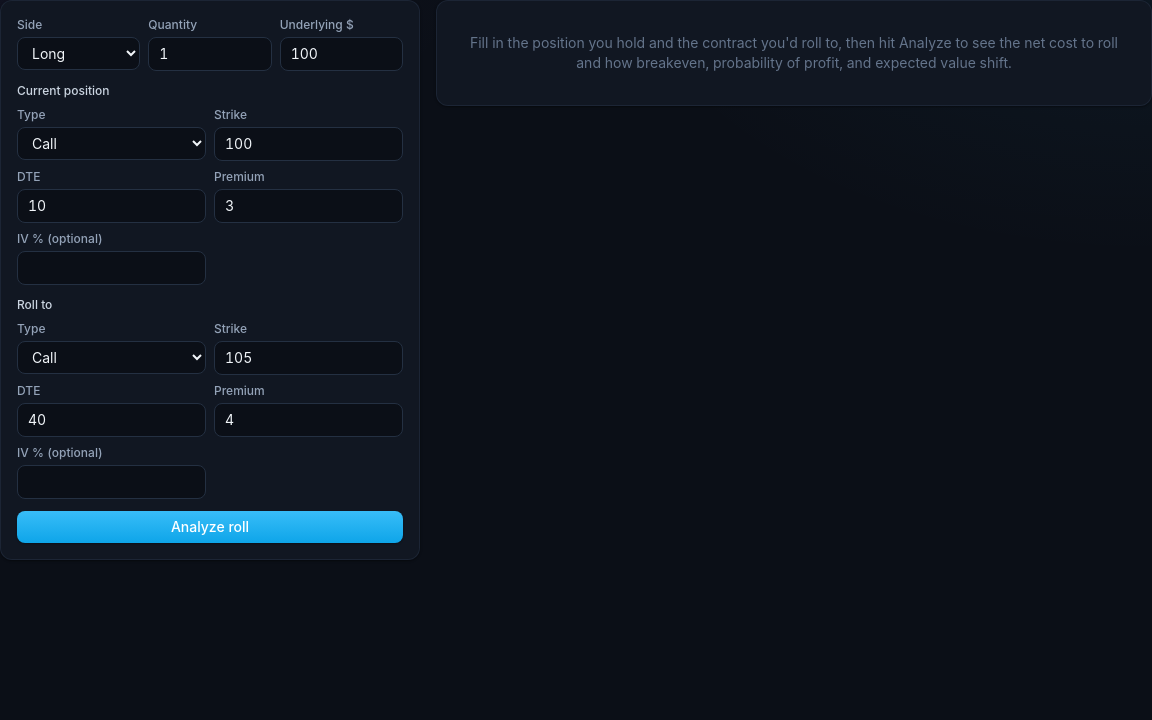
Scenario: RollAnalyzer › renders null probability/expected-value fields as em-dashes, not crashes
This screenshot has width=1152, height=720.
Click the button "Analyze roll" at [210, 527], box [17,511,403,543]
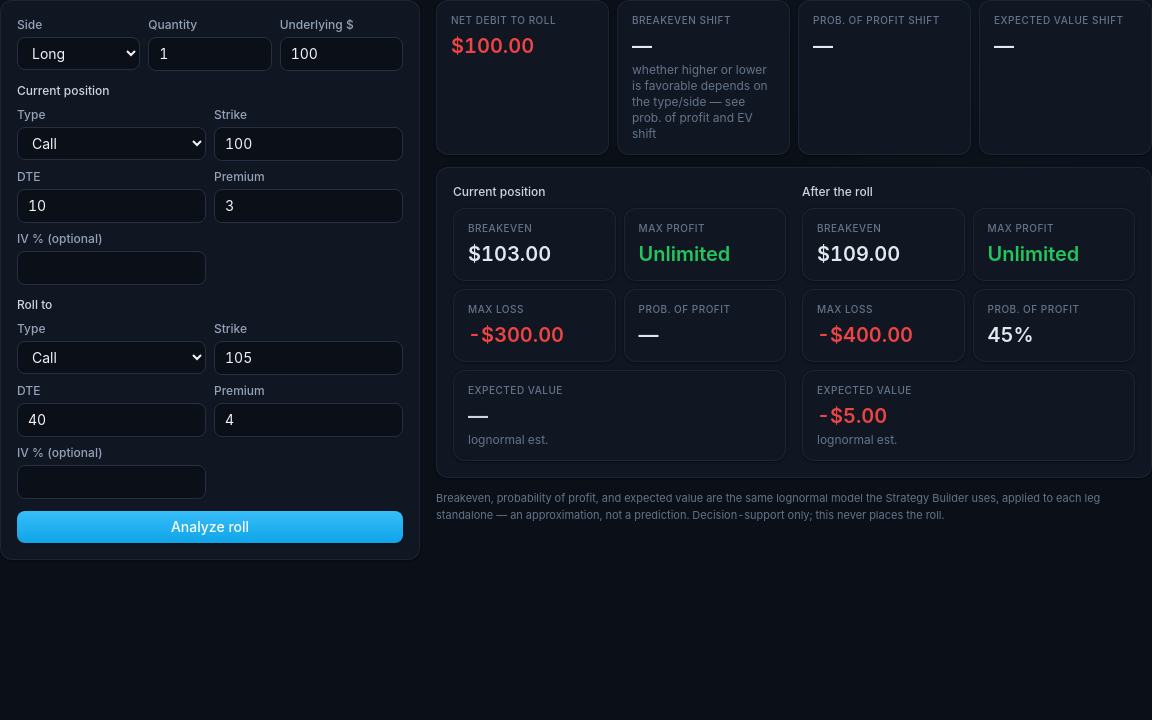
Check: the text "Net debit to roll" is shown, box [451,14,556,26]
Check: the text "—" below "Breakeven shift" is shown, box [632,34,652,58]
